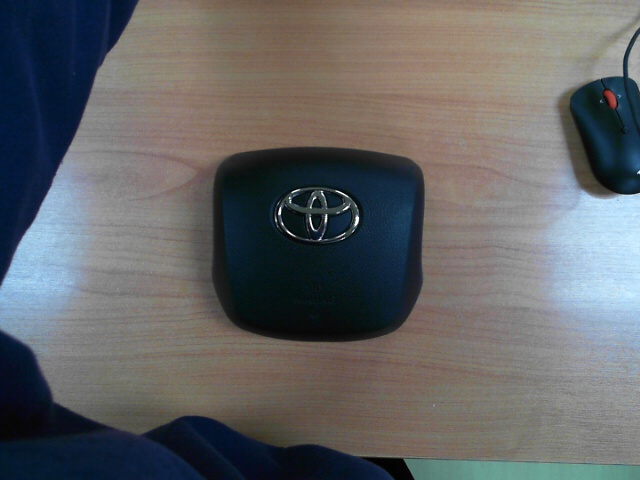AirbagV2: (213, 147, 424, 341)
